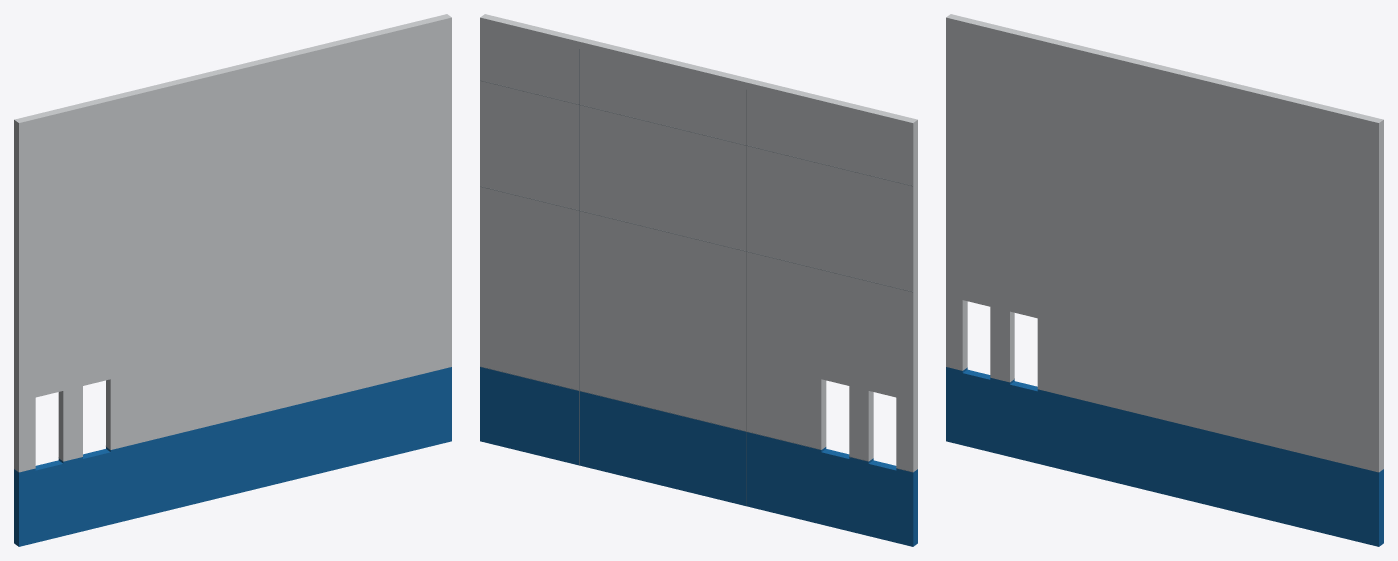
The model's file is SM_MPR_CAD_WindowFacade_04_20261112.fbx.
3 views of the same model, side by side, from view 1: azimuth 30°, elevation 25°; view 2: azimuth 150°, elevation 25°; view 3: azimuth 330°, elevation 25° (orthographic).
Parts seen in each view (by area): view 1: SM_MPR_CAD_WindowFacade_04_20261112; view 2: SM_MPR_CAD_WindowFacade_04_20261112; view 3: SM_MPR_CAD_WindowFacade_04_20261112.
Part boxes in pixels (bbox=[...]): SM_MPR_CAD_WindowFacade_04_20261112: bbox=[14, 14, 451, 546]; SM_MPR_CAD_WindowFacade_04_20261112: bbox=[480, 14, 917, 546]; SM_MPR_CAD_WindowFacade_04_20261112: bbox=[946, 14, 1383, 546].
Bounding box in the file's own units: 1582 × 31.44 × 1480.
